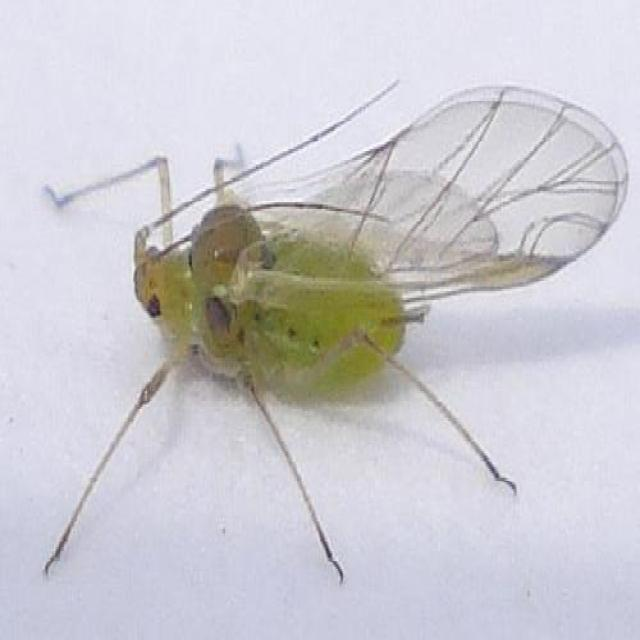Aphids: (45, 37, 637, 592)
